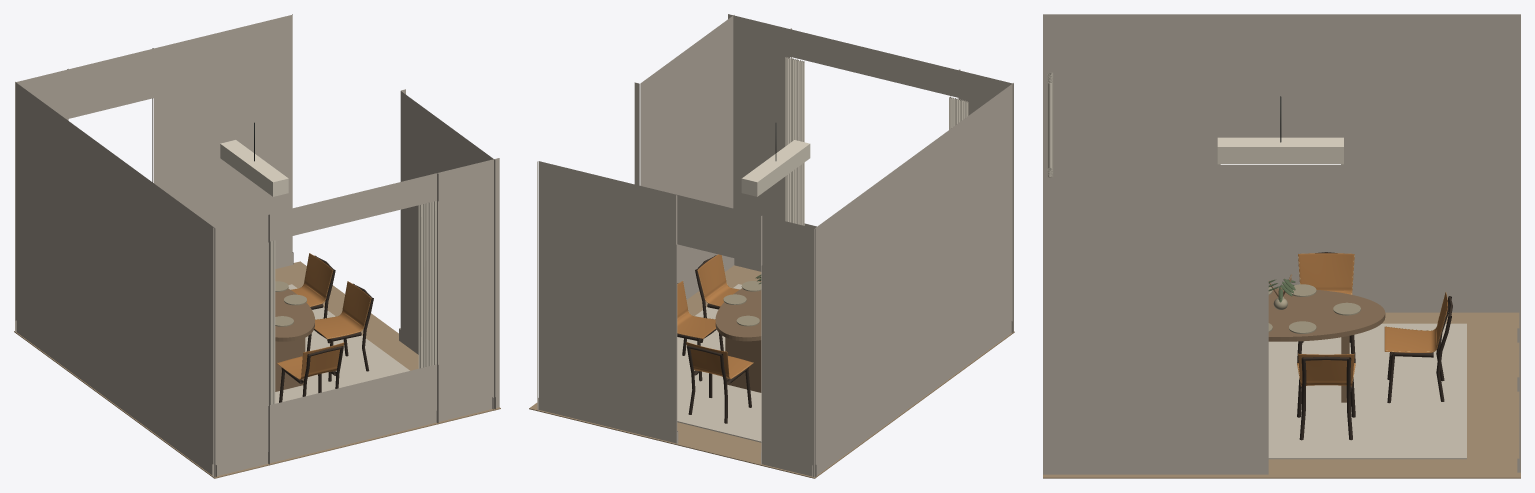
The model's file is dining-1.glb.
3 renders of one model, left to right at view 1: azimuth 30°, elevation 25°; view 2: azimuth 150°, elevation 25°; view 3: azimuth 270°, elevation 25°, orthographic. The views are drawn at different scales.
Parts seen in each view (by area): view 1: DESIGN | dining removable wall finish, DESIGN | dining floor finish, DESIGN | Dining ground, DESIGN | Dining linen edge.001, DESIGN | Required Isadora dining chair 3, DESIGN | Dining light 1 shade, DESIGN | Required Isadora dining chair 5, DESIGN | Required Isadora dining chair 4, DESIGN | Dining table top, DESIGN | Dining linen edge, DESIGN | Dining table trestle; view 2: DESIGN | dining removable wall finish, DESIGN | Dining ground, DESIGN | dining floor finish, DESIGN | Dining linen edge.001, DESIGN | Required Isadora dining chair 6, DESIGN | Dining light 1 shade, DESIGN | Dining table top, DESIGN | Required Isadora dining chair 3, DESIGN | Required Isadora dining chair 4, DESIGN | Dining table trestle.001; view 3: DESIGN | dining removable wall finish, DESIGN | Dining ground, DESIGN | dining floor finish, DESIGN | Dining table top, DESIGN | Dining light 1 shade, DESIGN | Required Isadora dining chair 6, DESIGN | Required Isadora dining chair 4, DESIGN | Required Isadora dining chair 2, DESIGN | Dining linen edge.
Part boxes in pixels (bbox=[...]): DESIGN | dining removable wall finish: bbox=[15, 14, 499, 477]; DESIGN | dining floor finish: bbox=[14, 261, 500, 478]; DESIGN | Dining ground: bbox=[275, 284, 409, 403]; DESIGN | Dining linen edge.001: bbox=[418, 201, 436, 368]; DESIGN | Required Isadora dining chair 3: bbox=[306, 281, 373, 381]; DESIGN | Dining light 1 shade: bbox=[220, 140, 288, 196]; DESIGN | Required Isadora dining chair 5: bbox=[277, 342, 344, 402]; DESIGN | Required Isadora dining chair 4: bbox=[291, 253, 335, 343]; DESIGN | Dining table top: bbox=[275, 288, 314, 341]; DESIGN | Dining linen edge: bbox=[268, 240, 275, 405]; DESIGN | Dining table trestle: bbox=[275, 338, 305, 391]; DESIGN | dining removable wall finish: bbox=[537, 14, 1013, 477]; DESIGN | Dining ground: bbox=[677, 284, 761, 442]; DESIGN | dining floor finish: bbox=[529, 265, 1014, 478]; DESIGN | Dining linen edge.001: bbox=[785, 57, 804, 225]; DESIGN | Required Isadora dining chair 6: bbox=[686, 341, 753, 423]; DESIGN | Dining light 1 shade: bbox=[741, 140, 810, 196]; DESIGN | Dining table top: bbox=[715, 281, 761, 341]; DESIGN | Required Isadora dining chair 3: bbox=[695, 254, 739, 342]; DESIGN | Required Isadora dining chair 4: bbox=[677, 281, 723, 381]; DESIGN | Dining table trestle.001: bbox=[725, 337, 761, 392]; DESIGN | dining removable wall finish: bbox=[1043, 14, 1520, 474]; DESIGN | Dining ground: bbox=[1268, 323, 1466, 459]; DESIGN | dining floor finish: bbox=[1043, 312, 1520, 478]; DESIGN | Dining table top: bbox=[1268, 288, 1385, 341]; DESIGN | Dining light 1 shade: bbox=[1217, 137, 1343, 164]; DESIGN | Required Isadora dining chair 6: bbox=[1384, 292, 1452, 403]; DESIGN | Required Isadora dining chair 4: bbox=[1297, 353, 1355, 440]; DESIGN | Required Isadora dining chair 2: bbox=[1297, 252, 1355, 364]; DESIGN | Dining linen edge: bbox=[1047, 72, 1053, 170].
Size of the model in its own units: 3.28 by 2.74 by 3.98.
